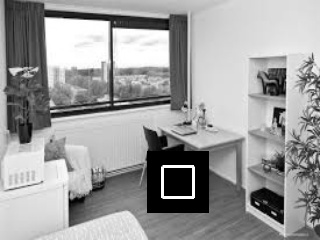square: (147, 151, 209, 213)
